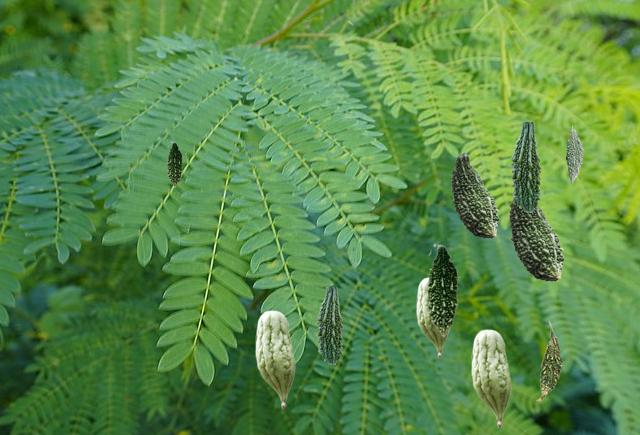ampalaya: (509, 199, 563, 280), (451, 152, 498, 237), (255, 310, 294, 408), (471, 329, 510, 427), (427, 243, 459, 336), (510, 122, 540, 211), (416, 277, 448, 357), (536, 320, 562, 400), (316, 287, 342, 363), (566, 124, 582, 182), (167, 141, 182, 186)
